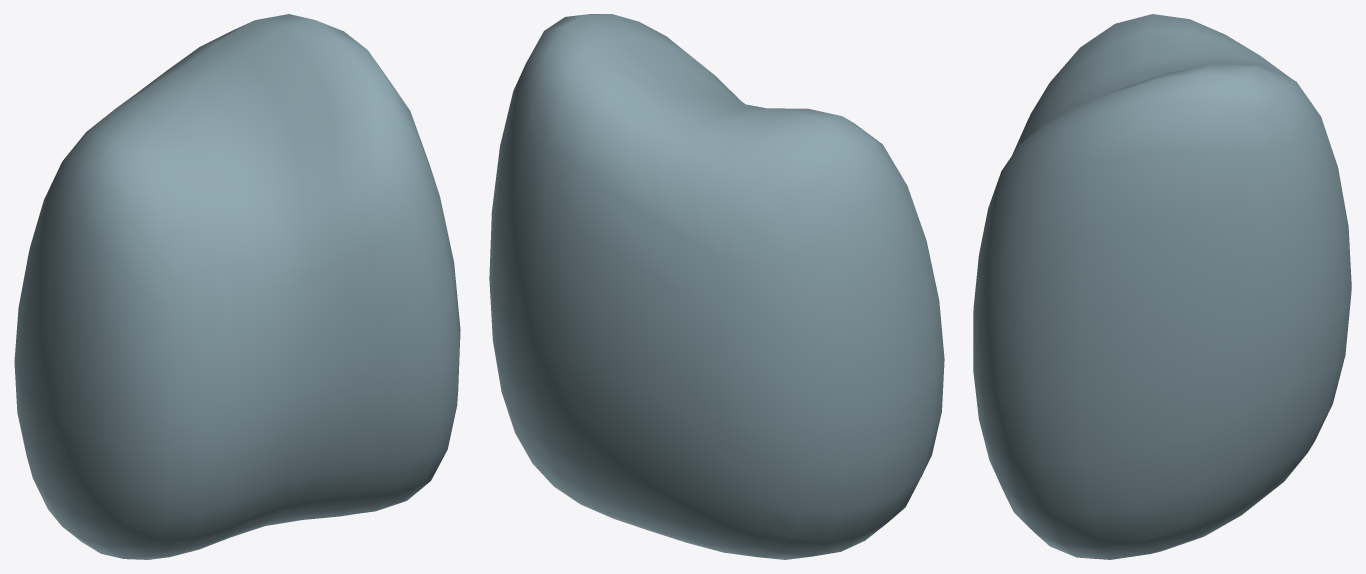
File: Rock_A_06.fbx
The picture shows the model from 3 angles, left to right: view 1: azimuth 30°, elevation 25°; view 2: azimuth 150°, elevation 25°; view 3: azimuth 270°, elevation 25°; orthographic projection. The views are drawn at different scales.
Visible parts, largest first — view 1: Rock_A_06_LOD0; view 2: Rock_A_06_LOD0; view 3: Rock_A_06_LOD0.
Boxes of the visible parts, x1=… form: Rock_A_06_LOD0: x1=14, y1=14, x2=460, y2=559; Rock_A_06_LOD0: x1=489, y1=14, x2=944, y2=559; Rock_A_06_LOD0: x1=973, y1=14, x2=1351, y2=559.
Size of what is drawn, in the model's own units: 309 by 352 by 250.
